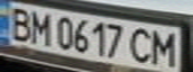0: (51, 13, 75, 51)
1: (87, 19, 109, 56)
6: (69, 17, 90, 54)
7: (103, 20, 130, 60)
B: (3, 3, 36, 42)
C: (127, 25, 157, 65)
M: (148, 28, 181, 67), (24, 9, 54, 46)
